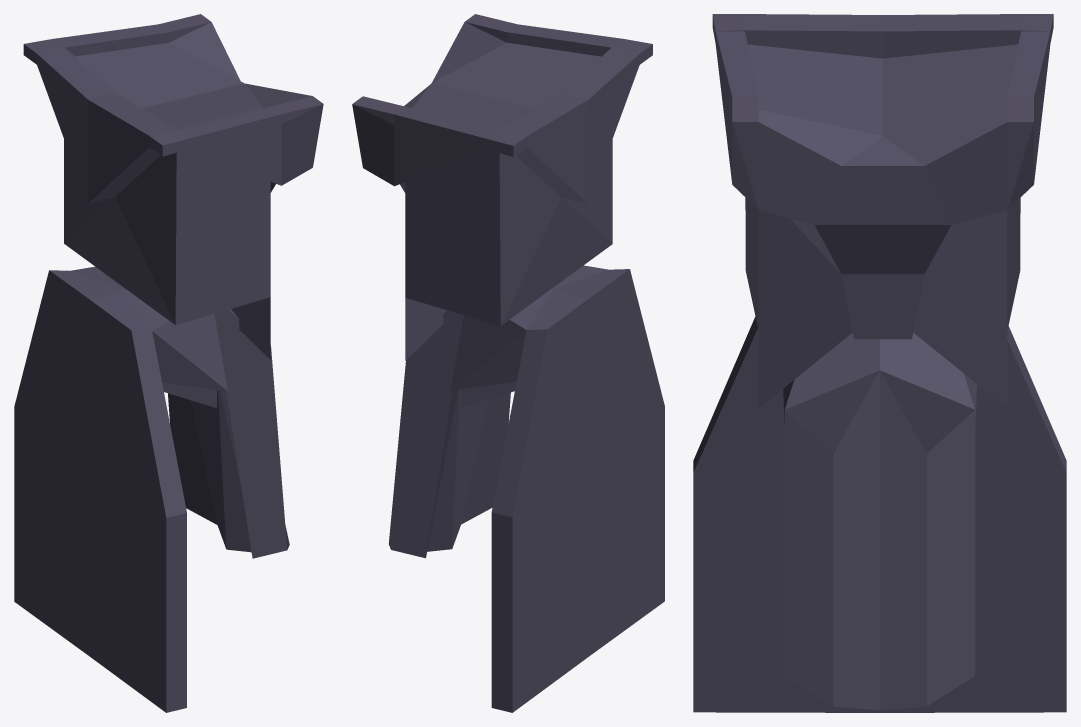
The model's file is Robo-KnightBody.fbx.
3 renders of one model, left to right at view 1: azimuth 30°, elevation 25°; view 2: azimuth 150°, elevation 25°; view 3: azimuth 270°, elevation 25°, orthographic. The views are drawn at different scales.
Parts seen in each view (by area): view 1: polySurface511; view 2: polySurface511; view 3: polySurface511.
Boxes of the visible parts, bbox=[...] form: polySurface511: bbox=[14, 14, 323, 712]; polySurface511: bbox=[352, 14, 664, 712]; polySurface511: bbox=[693, 14, 1066, 712].
Size of the model in its own units: 105 by 311 by 153.
